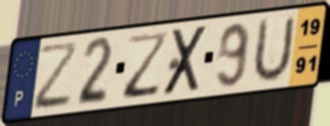2: (76, 34, 114, 110)
9: (215, 20, 252, 89)
U: (249, 13, 298, 87)
X: (160, 22, 211, 99)
Z: (122, 28, 171, 102), (32, 39, 80, 114)
